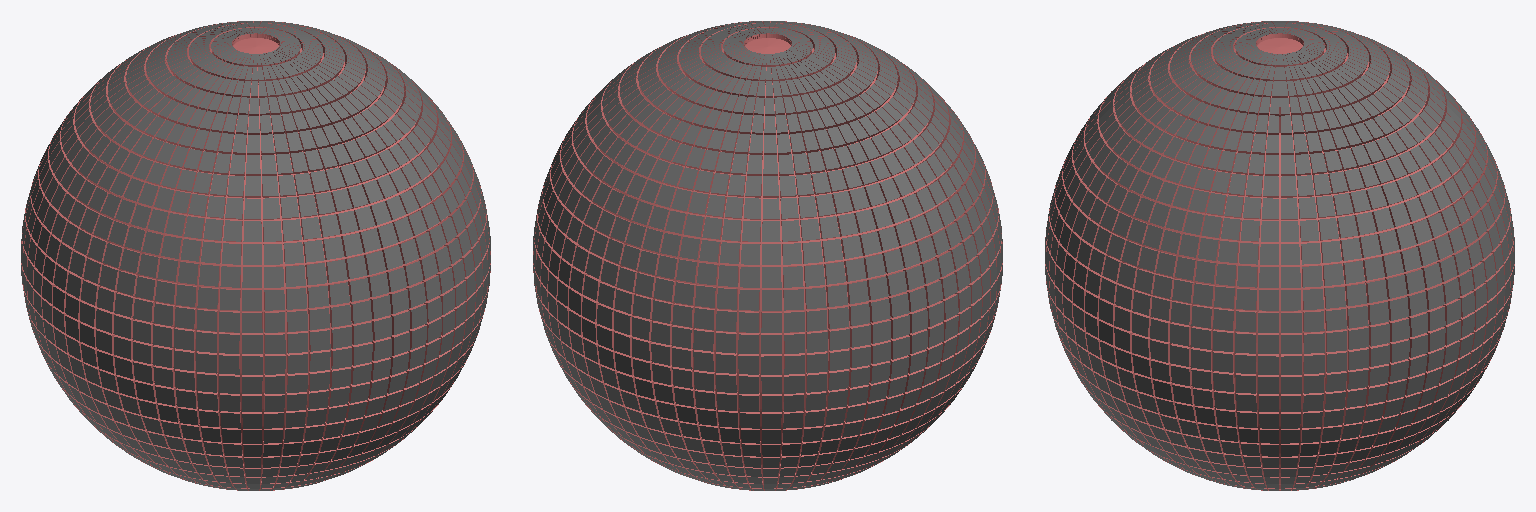
Rendered from disco.obj.
3 renders of one model, left to right at view 1: azimuth 30°, elevation 25°; view 2: azimuth 150°, elevation 25°; view 3: azimuth 270°, elevation 25°, orthographic.
Parts seen in each view (by area): view 1: Sphere001_Untitled; view 2: Sphere001_Untitled; view 3: Sphere001_Untitled.
Part boxes in pixels (bbox=[...]): Sphere001_Untitled: bbox=[21, 21, 490, 490]; Sphere001_Untitled: bbox=[533, 21, 1002, 490]; Sphere001_Untitled: bbox=[1045, 21, 1514, 490].
Bounding box in the file's own units: 0.6988 × 0.6953 × 0.6988.